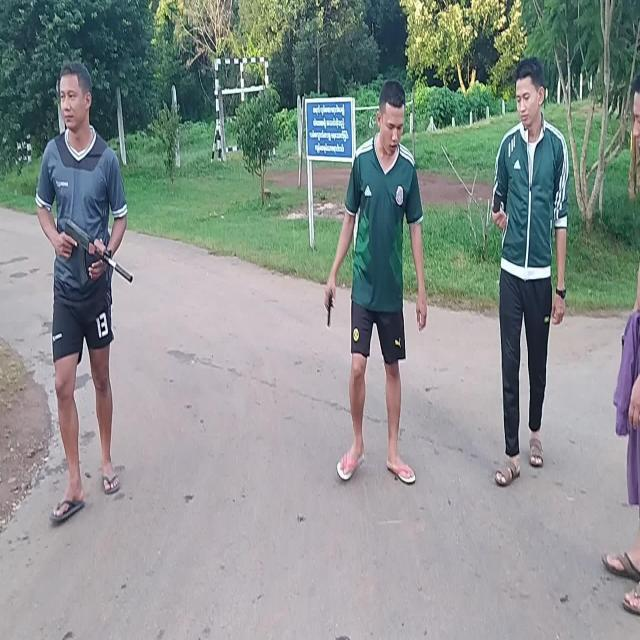gun: (63, 218, 133, 285), (327, 292, 331, 325)
